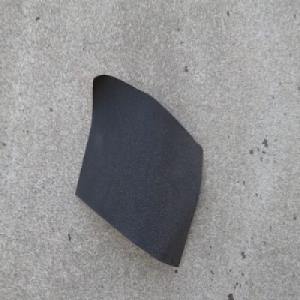PaintChip: (74, 73, 203, 270)
